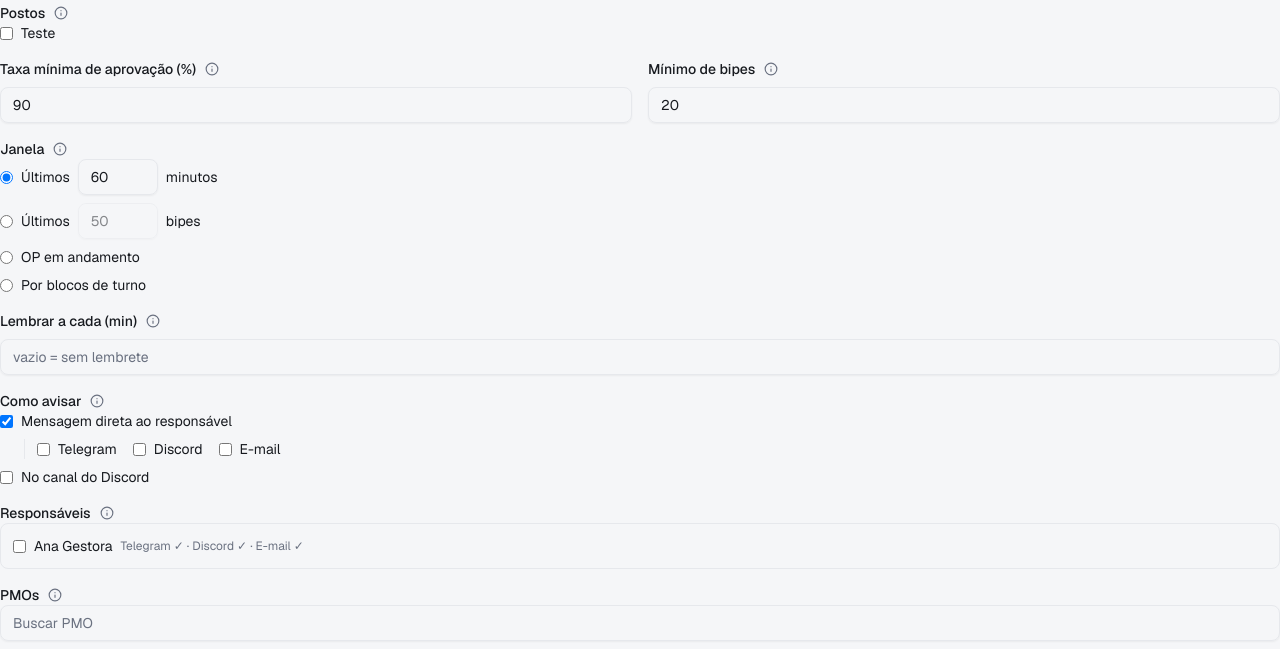
Scenario: RegraForm — janela por blocos: o que sai e o que fica da tela › a prévia desaparece nessa janela (alerta_previa não conhece o bloco) e volta ao sair dela
The image size is (1280, 649).
Click the radio button labelled "Por blocos de turno" at {"x": 6, "y": 285}, box [0,278,13,292]
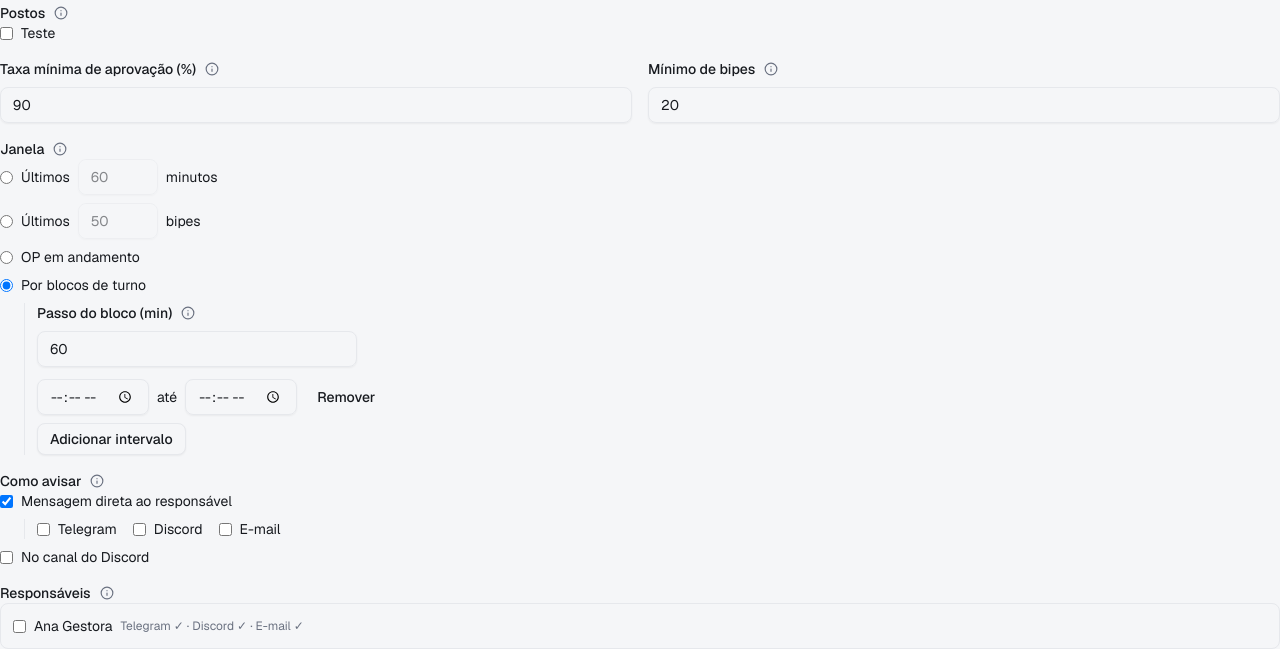
Click the radio button labelled "OP em andamento" at {"x": 6, "y": 257}, box [0,250,13,264]
(page scrolled)
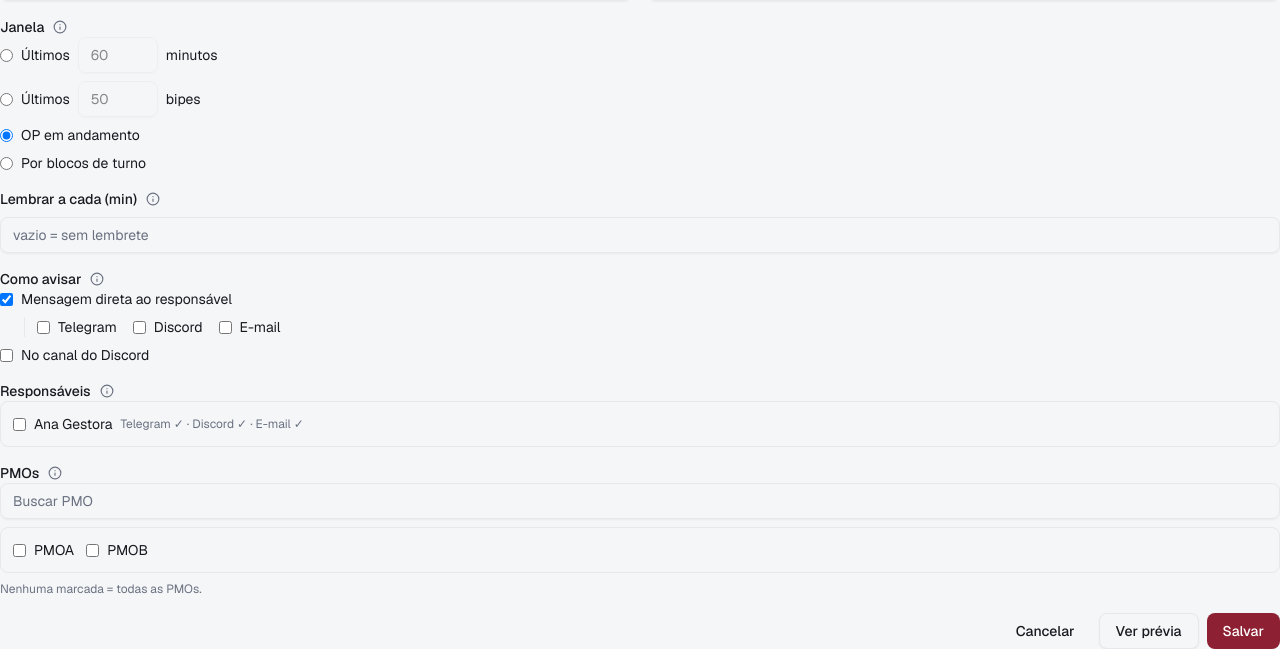
Check: the button "Ver prévia" is shown, box [1099,613,1198,648]
